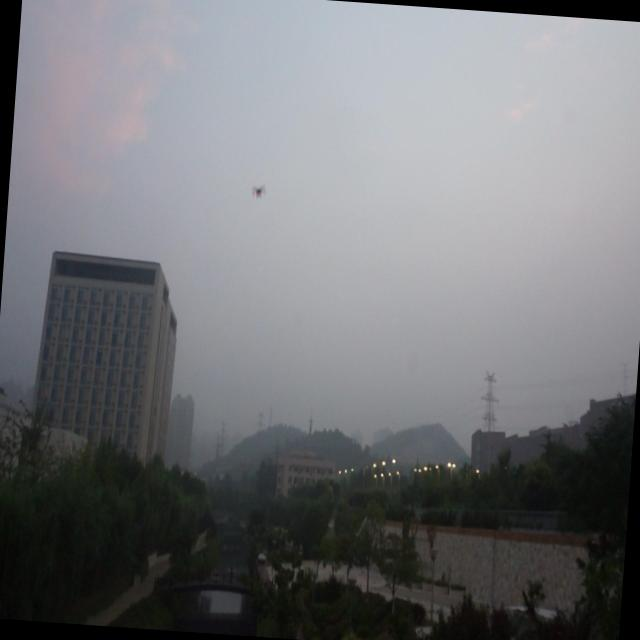drone: (249, 179, 268, 206)
